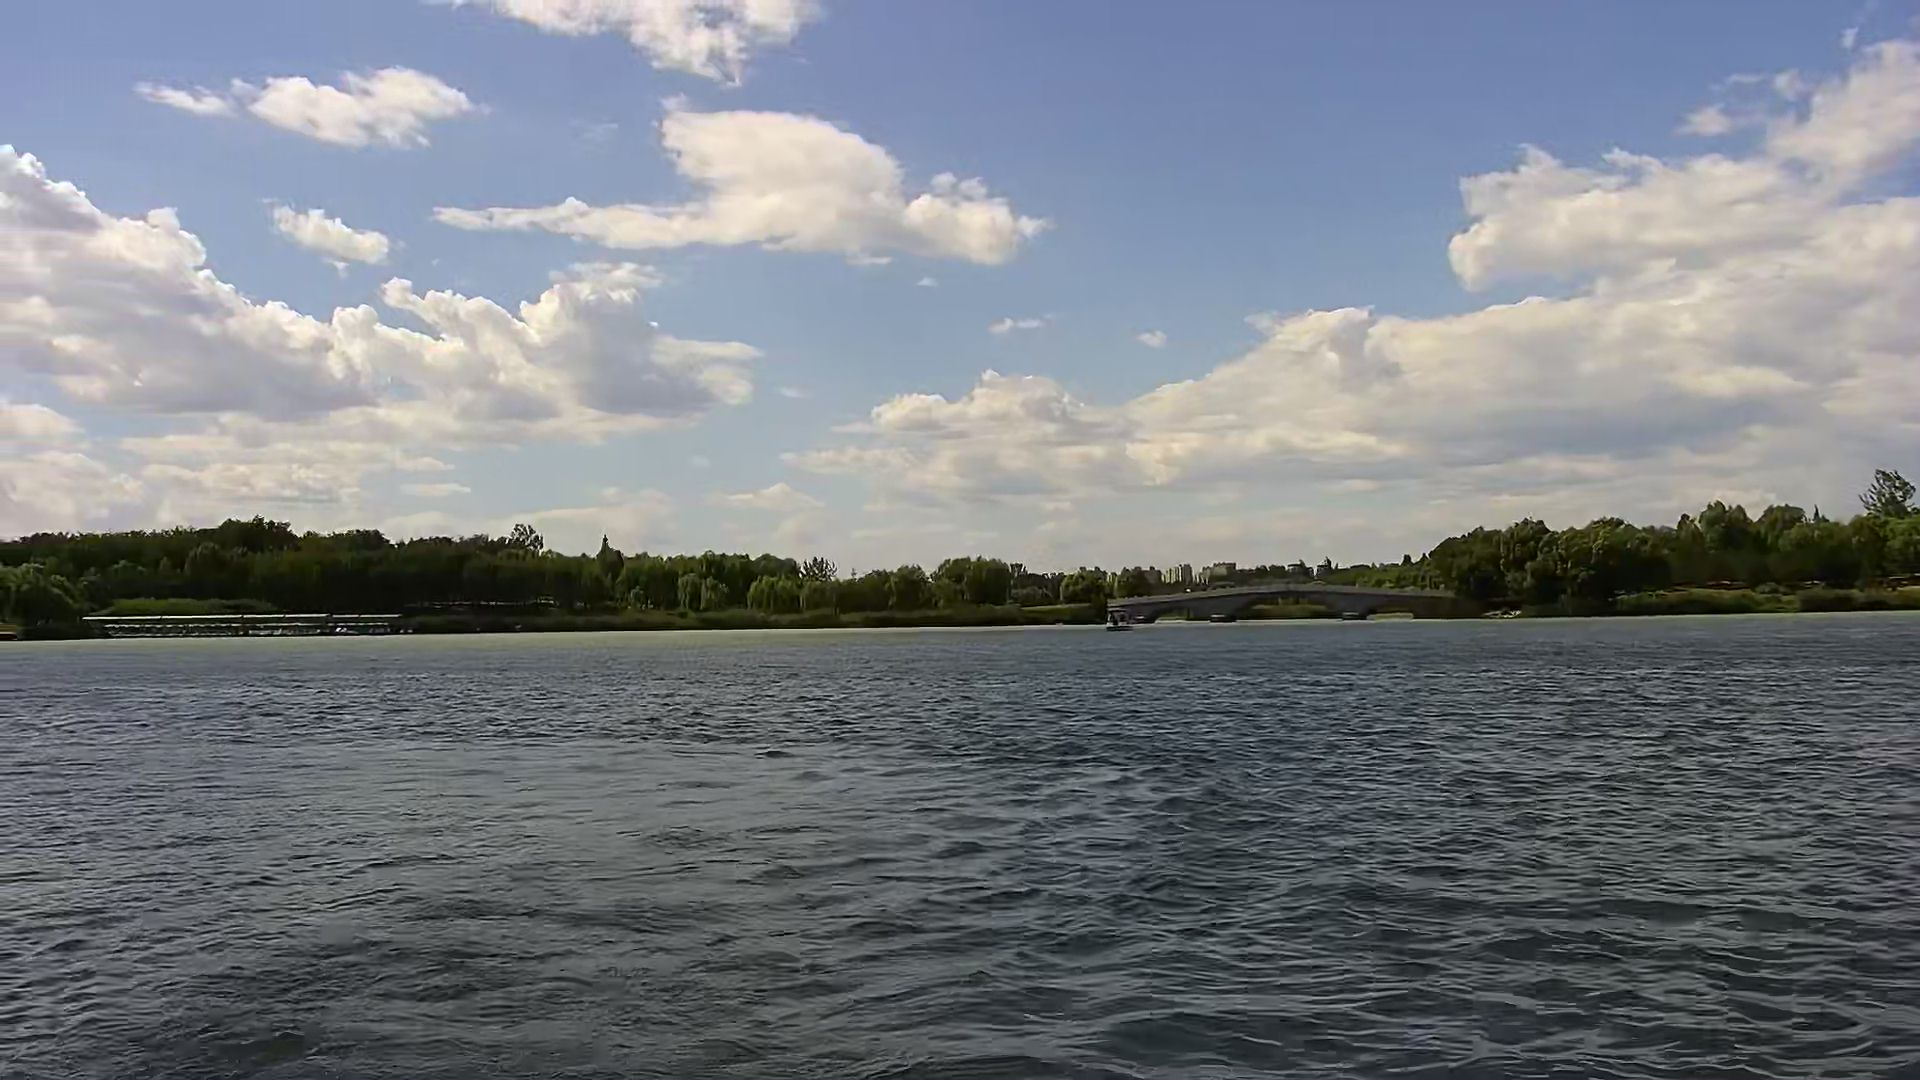boat: (1098, 608, 1135, 636)
bridge: (1102, 585, 1445, 622), (90, 615, 405, 636)
